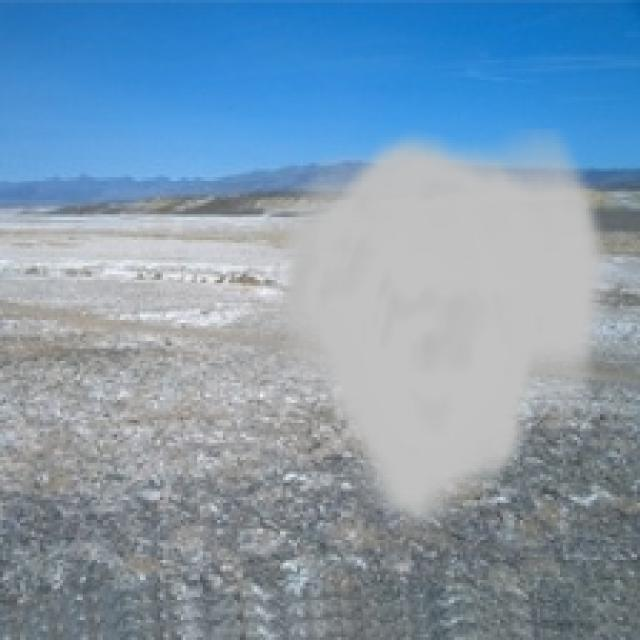smoke: (263, 129, 611, 534)
